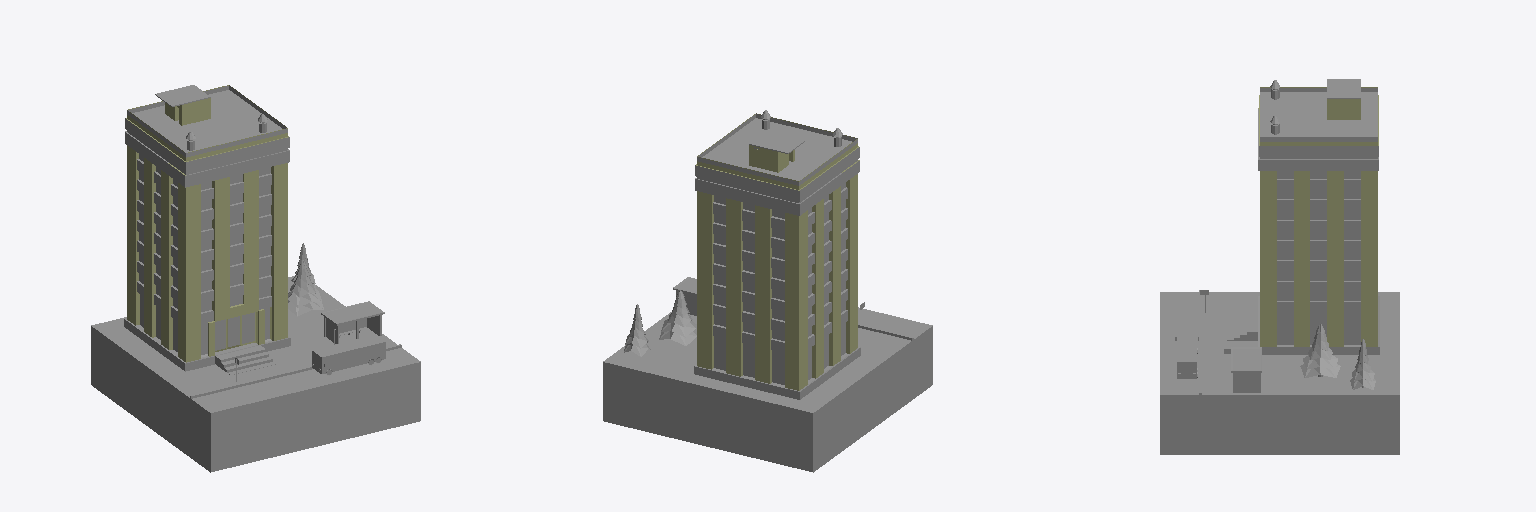
The model's file is Building.obj.
3 renders of one model, left to right at view 1: azimuth 30°, elevation 25°; view 2: azimuth 150°, elevation 25°; view 3: azimuth 270°, elevation 25°, orthographic.
Visible parts, largest first — view 1: Cube_Cube.001, Cube.001_Cube.002, Cube.004_Cube.006, Plane.002_Plane.003, Cylinder.002; view 2: Cube_Cube.001, Cube.001_Cube.002, Cylinder.002, Cylinder.005; view 3: Cube_Cube.001, Cube.001_Cube.002, Plane.002_Plane.003, Cylinder.002, Cube.004_Cube.006, Cylinder.005.
Boxes of the visible parts, x1,y1,x2,y2 form: Cube_Cube.001: [124, 85, 290, 374]; Cube.001_Cube.002: [91, 276, 420, 472]; Cube.004_Cube.006: [312, 334, 385, 373]; Plane.002_Plane.003: [321, 301, 384, 343]; Cylinder.002: [288, 260, 323, 316]; Cube_Cube.001: [694, 113, 860, 399]; Cube.001_Cube.002: [603, 307, 932, 472]; Cylinder.002: [659, 290, 696, 345]; Cylinder.005: [624, 304, 650, 356]; Cube_Cube.001: [1227, 79, 1379, 354]; Cube.001_Cube.002: [1160, 290, 1399, 454]; Plane.002_Plane.003: [1231, 347, 1261, 392]; Cylinder.002: [1300, 324, 1340, 377]; Cube.004_Cube.006: [1177, 330, 1196, 378]; Cylinder.005: [1350, 339, 1375, 389].
Size of the model in its own units: 4.13 by 5.51 by 4.06.